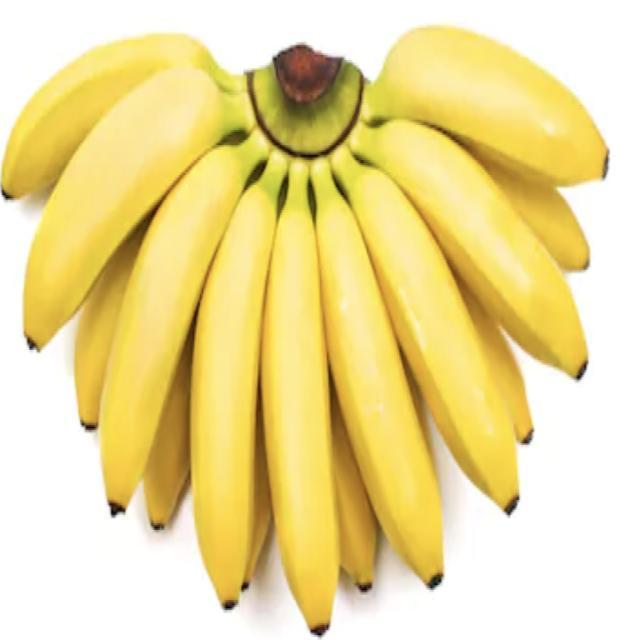Banana: (0, 23, 610, 636)
